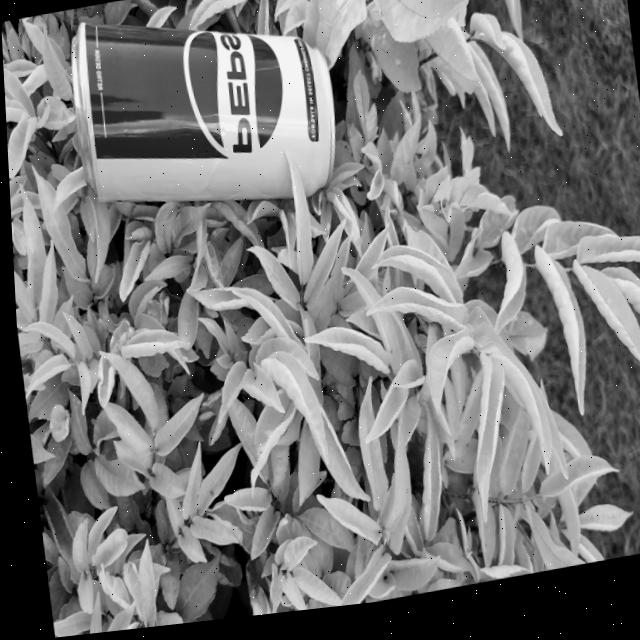Pepsi Retro: (65, 0, 345, 241)
